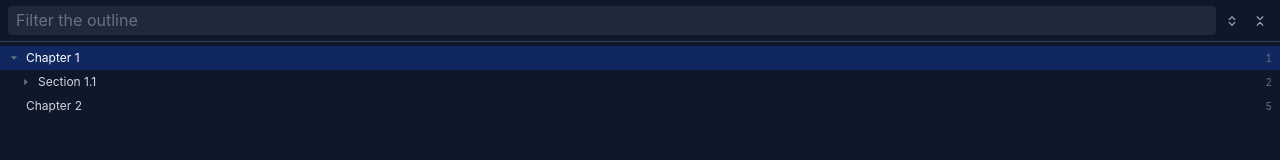
Test: OutlineView › keeps the parents of a match visible while filtering
Type "budget" into the field. click: coordinates (612, 21)
box: [8, 6, 1216, 35]
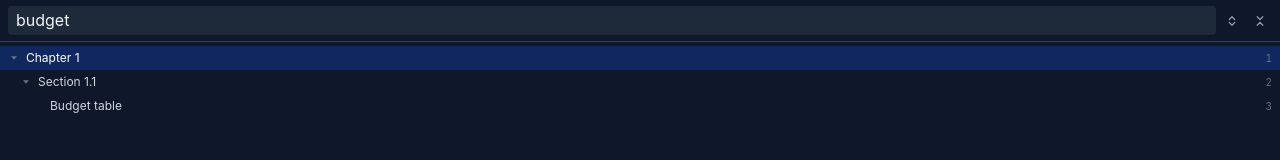
Check: the button "Section 1.1" is shown, box [38, 70, 1260, 94]
Check: the button "Budget table" is shown, box [50, 94, 1260, 118]
Check: the button "Chapter 2" is gone
